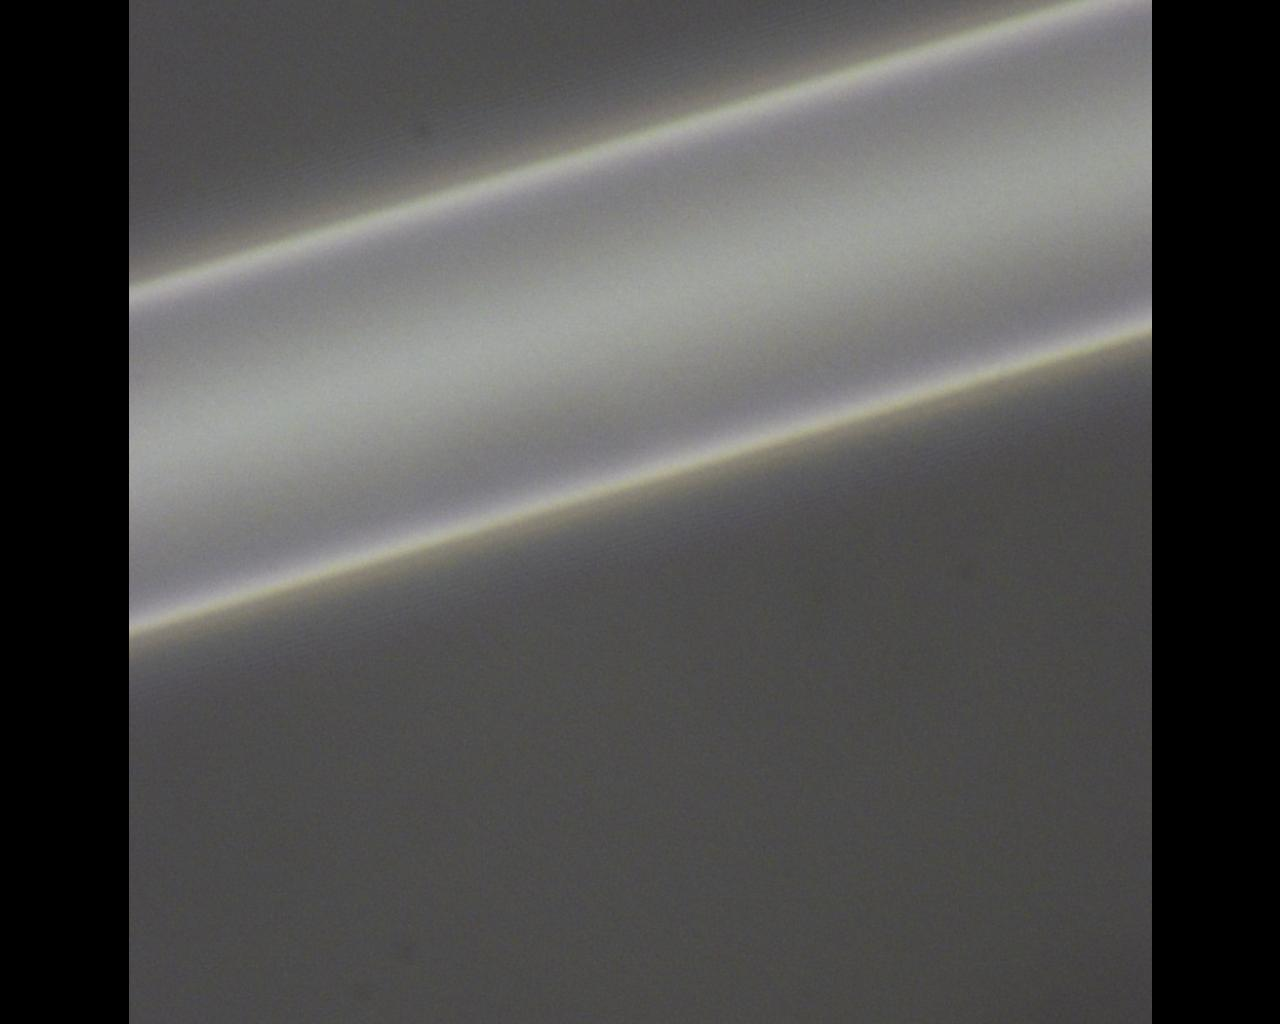fiber: (839, 583, 1273, 1024), (656, 0, 903, 583)
